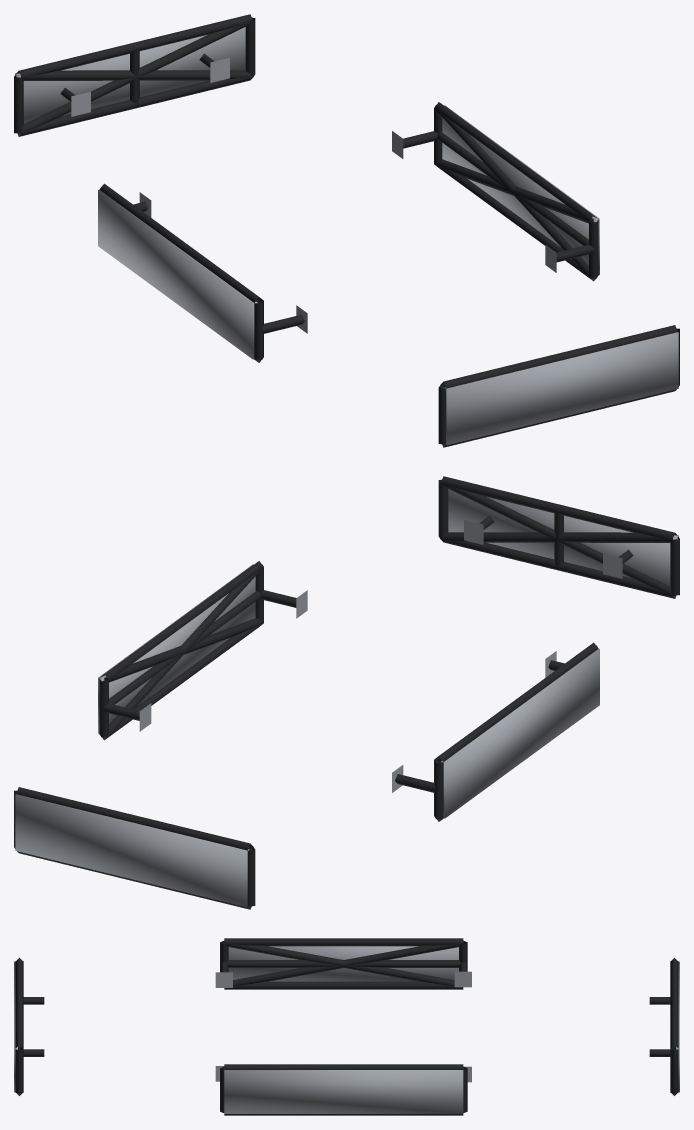
The model's file is mizuchi_arco_protecao.glb.
3 views of the same model, one above another, from view 1: azimuth 30°, elevation 25°; view 2: azimuth 150°, elevation 25°; view 3: azimuth 270°, elevation 25° (orthographic). The views are drawn at different scales.
Parts seen in each view (by area): view 1: Protection_front_Level3_Details, Protection_left_Level3_Details, Protection_rear_Level1_Details, Protection_rear_Level3_Details, Protection_right_Level1_Details, Protection_rear_Level2_Details, Protection_right_Level2_Details, Protection_right_Level3_Details, Protection_front_Level1_Details, Protection_left_Level1_Details; view 2: Protection_rear_Level3_Details, Protection_left_Level3_Details, Protection_front_Level1_Details, Protection_front_Level3_Details, Protection_right_Level1_Details, Protection_front_Level2_Details, Protection_right_Level2_Details, Protection_right_Level3_Details, Protection_rear_Level1_Details, Protection_left_Level1_Details; view 3: Protection_right_Level3_Details, Protection_left_Level1_Details, Protection_left_Level2_Details, Protection_left_Level3_Details, Protection_right_Level1_Details, Protection_rear_Level1_Details, Protection_front_Level1_Details.
Boxes of the visible parts, x1,y1,x2,y2 form: Protection_front_Level3_Details: [444, 332, 678, 445]; Protection_left_Level3_Details: [98, 189, 257, 359]; Protection_rear_Level1_Details: [14, 14, 255, 136]; Protection_rear_Level3_Details: [15, 27, 245, 123]; Protection_right_Level1_Details: [392, 102, 598, 281]; Protection_rear_Level2_Details: [16, 21, 252, 135]; Protection_right_Level2_Details: [434, 108, 597, 280]; Protection_right_Level3_Details: [442, 105, 599, 274]; Protection_front_Level1_Details: [438, 325, 679, 447]; Protection_left_Level1_Details: [99, 183, 307, 362]; Protection_rear_Level3_Details: [15, 794, 249, 907]; Protection_left_Level3_Details: [440, 648, 599, 818]; Protection_front_Level1_Details: [438, 476, 679, 598]; Protection_front_Level3_Details: [448, 489, 678, 585]; Protection_right_Level1_Details: [99, 561, 307, 740]; Protection_front_Level2_Details: [441, 483, 677, 597]; Protection_right_Level2_Details: [100, 567, 263, 739]; Protection_right_Level3_Details: [98, 564, 255, 733]; Protection_rear_Level1_Details: [14, 787, 255, 909]; Protection_left_Level1_Details: [392, 642, 598, 821]; Protection_right_Level3_Details: [224, 1070, 463, 1113]; Protection_left_Level1_Details: [215, 938, 471, 989]; Protection_left_Level2_Details: [224, 941, 463, 986]; Protection_left_Level3_Details: [228, 946, 458, 981]; Protection_right_Level1_Details: [215, 1064, 471, 1115]; Protection_rear_Level1_Details: [649, 958, 678, 1095]; Protection_front_Level1_Details: [15, 958, 44, 1095].
Size of the model in its own units: 1.94 by 0.354 by 4.18.
Materials: 1 (1 with a texture image).
